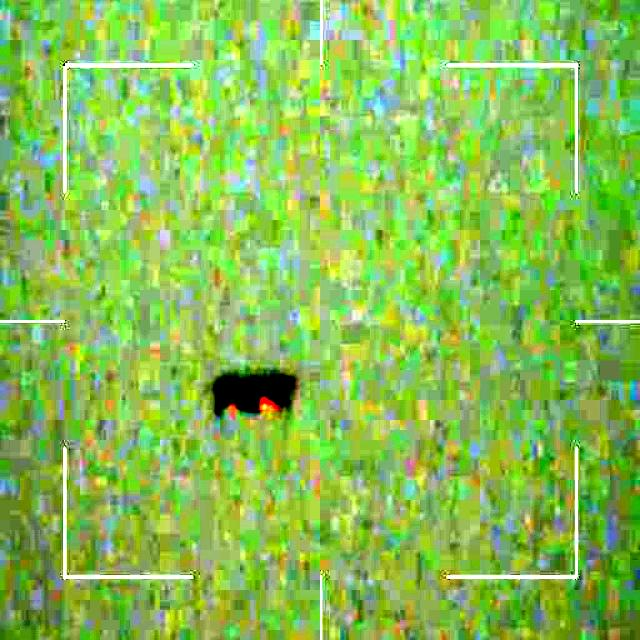bird: (209, 370, 295, 416)
